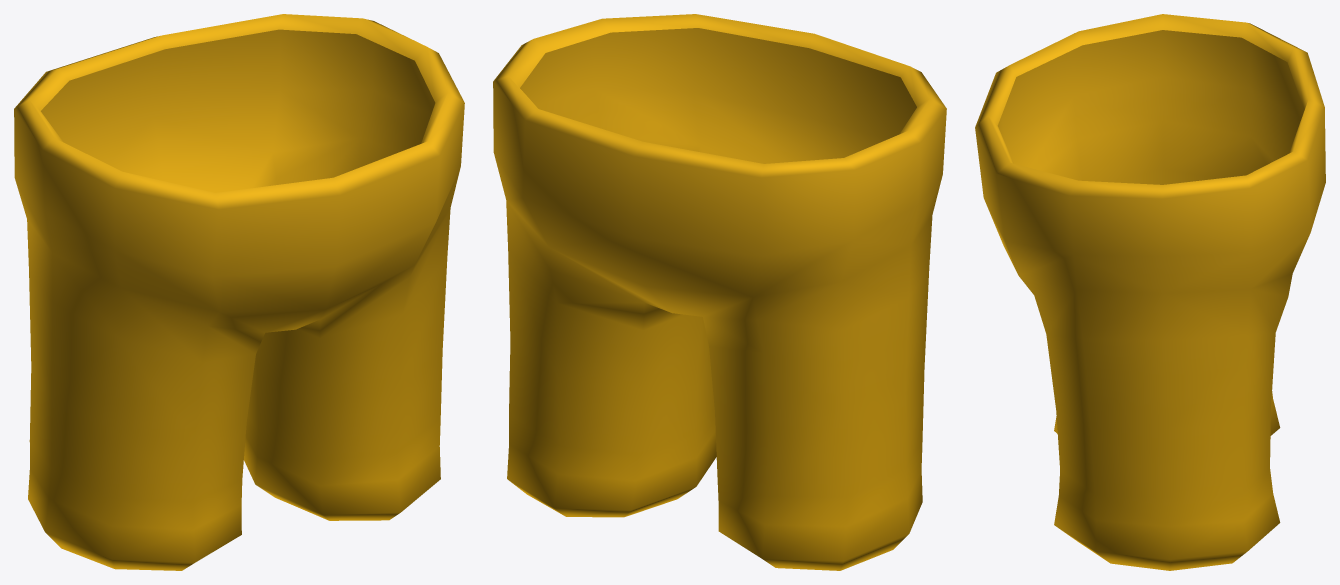
Rendered from Bottom_19.fbx.
The picture shows the model from 3 angles, left to right: view 1: azimuth 30°, elevation 25°; view 2: azimuth 150°, elevation 25°; view 3: azimuth 270°, elevation 25°; orthographic projection. The views are drawn at different scales.
Parts seen in each view (by area): view 1: Bottom_19; view 2: Bottom_19; view 3: Bottom_19.
Part boxes in pixels (x1,y1,x2,y2): Bottom_19: [14, 14, 464, 570]; Bottom_19: [493, 14, 946, 570]; Bottom_19: [975, 14, 1325, 570].
Size of the model in its own units: 38.42 by 38.99 by 31.34.
